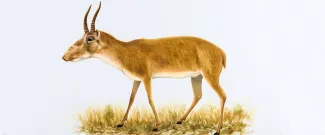saiga: (61, 1, 228, 135)
